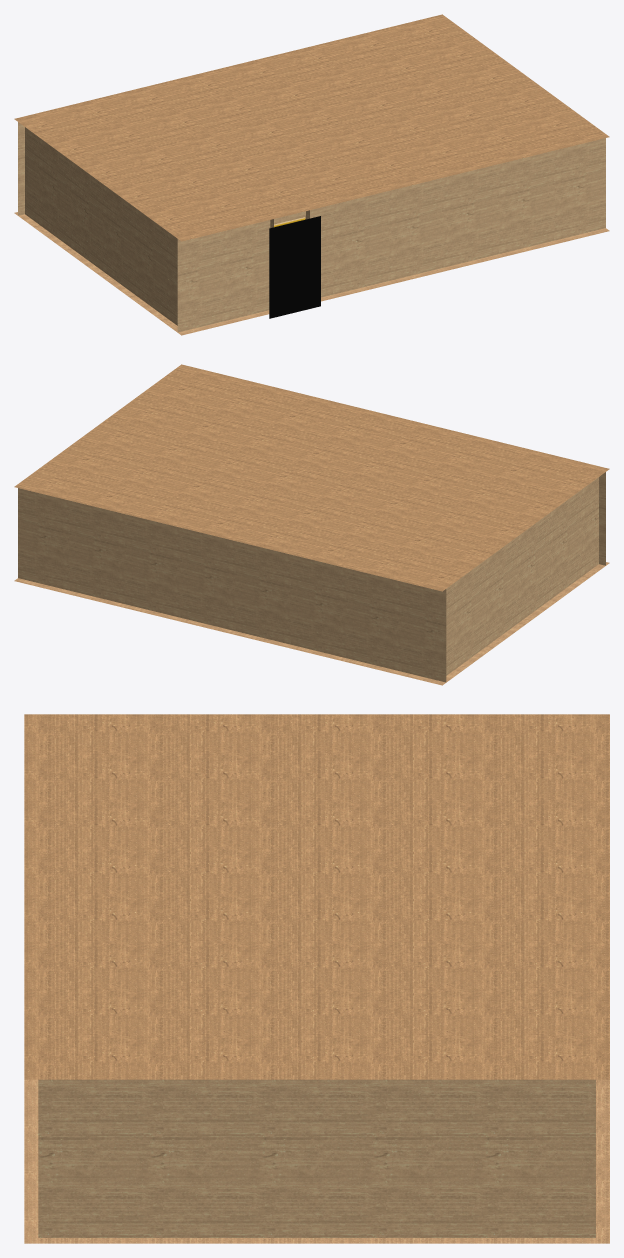
File: rdwe_attic.glb
The picture shows the model from 3 angles, top to bottom: view 1: azimuth 30°, elevation 25°; view 2: azimuth 150°, elevation 25°; view 3: azimuth 270°, elevation 25°; orthographic projection. The views are drawn at different scales.
Parts seen in each view (by area): view 1: Ceil_Boards, Wall_Boards, Void, Floor_Boards; view 2: Ceil_Boards, Wall_Boards, Floor_Boards; view 3: Ceil_Boards, Wall_Boards, Floor_Boards.
Boxes of the visible parts, <box> form: Ceil_Boards: <box>14,14,609,241</box>; Wall_Boards: <box>18,122,605,332</box>; Void: <box>269,216,320,318</box>; Floor_Boards: <box>14,212,609,335</box>; Ceil_Boards: <box>14,364,609,591</box>; Wall_Boards: <box>18,472,605,682</box>; Floor_Boards: <box>14,562,609,685</box>; Ceil_Boards: <box>24,714,609,1079</box>; Wall_Boards: <box>38,1079,595,1237</box>; Floor_Boards: <box>24,1079,609,1243</box>.
Bounding box in the file's own units: 12.4 × 2.65 × 8.55.
22 materials, 15 textured.
